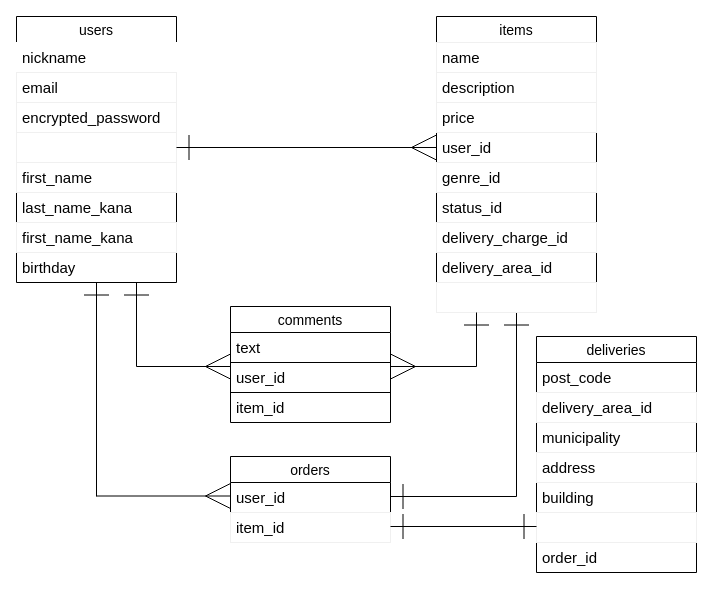
Image size: 713x589. Some labels were removed from this diagram. Each missing label, with the centre of its shape:
"delivery_date_id" goes at pixel 516 297.
"last_name" goes at pixel 96 147.
"telephone_number" goes at pixel 616 527.
